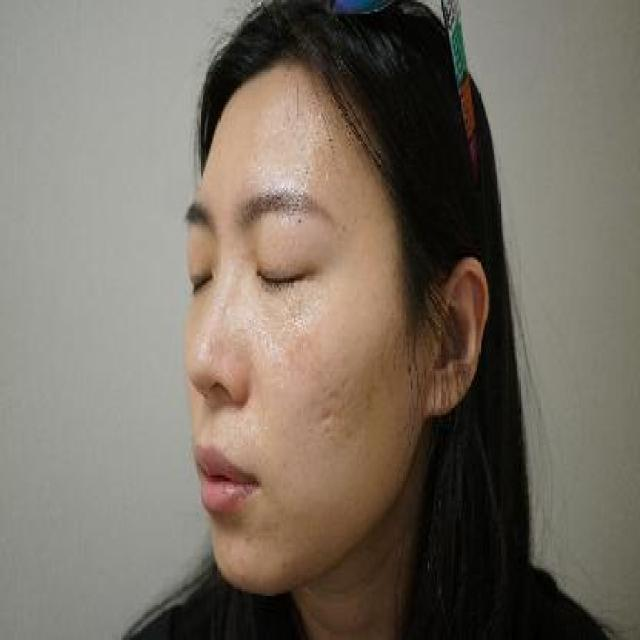whiteheads: (322, 290, 336, 308)
